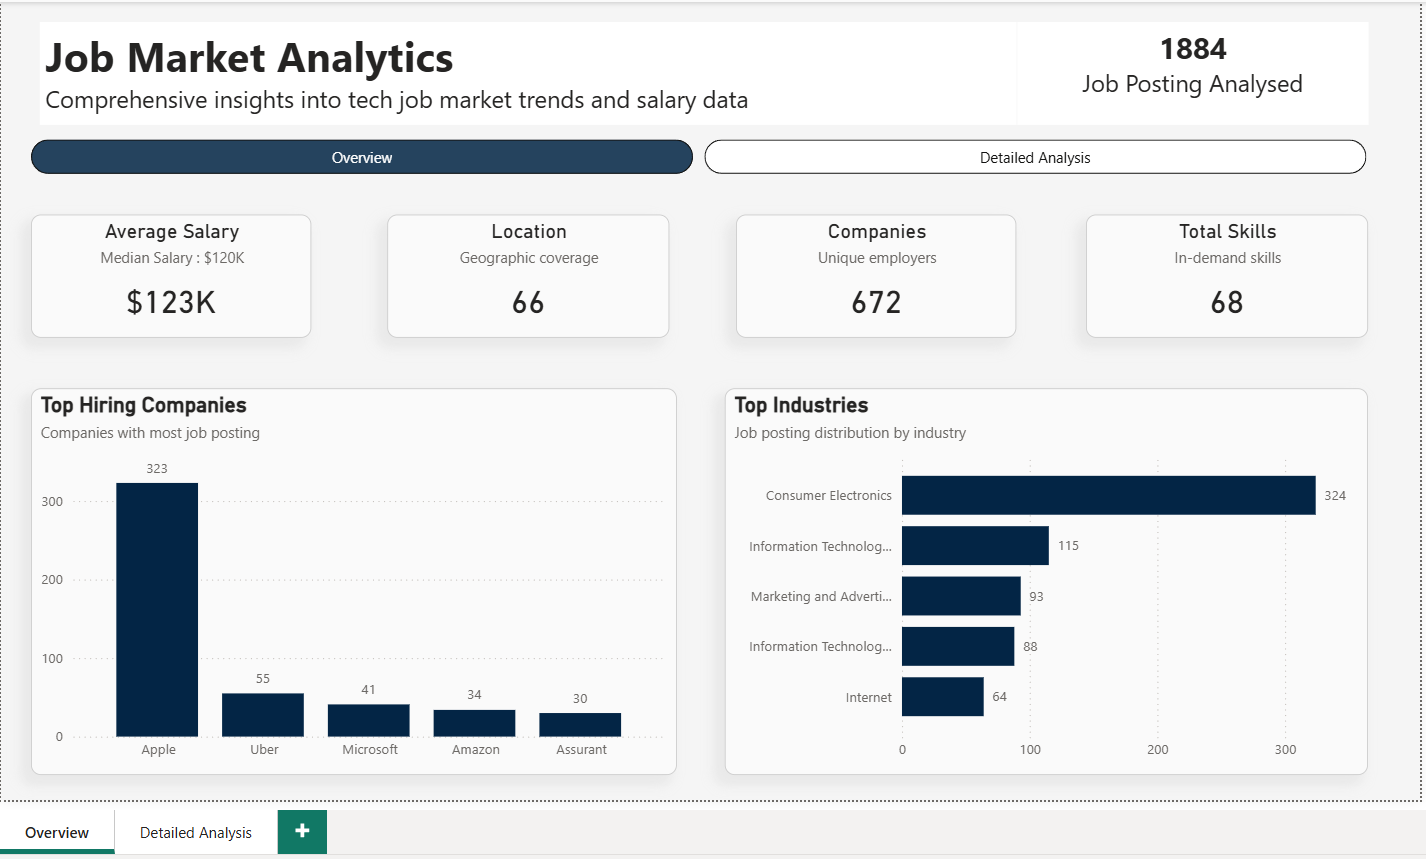

What the dashboard file says about the page in this screenshot:
{"tool":"powerbi","page":{"name":"Overview","canvas":[1280,720],"ordinal":0},"visuals":[{"type":"clusteredColumnChart","title":"Top Hiring Companies","fields":{"Category":["onGjiBOHFIGJVWcg (2).company_clean"],"Y":["Count(onGjiBOHFIGJVWcg (2).post_id)"]},"box":[26.9,348.5,582.1,348.5],"z":0},{"type":"card","title":"Average Salary","fields":{"Values":["Avg(onGjiBOHFIGJVWcg (2).avg_salary)"]},"box":[26.9,192,253.1,111.3],"z":1000},{"type":"card","title":"Total Skills","fields":{"Values":["onGjiBOHFIGJVWcg (2).Total Skills"]},"box":[978.3,192,254.3,111.3],"z":2000},{"type":"card","title":"Location","fields":{"Values":["Count(onGjiBOHFIGJVWcg (2).location_clean)"]},"box":[348.5,192,254.3,111.3],"z":3000},{"type":"textbox","box":[35.5,18.3,880.4,92.9],"z":4000},{"type":"card","title":"Companies","fields":{"Values":["Count(onGjiBOHFIGJVWcg (2).company_clean)"]},"box":[662.8,192,253.1,111.3],"z":5000},{"type":"textbox","box":[915.9,18.3,316.7,92.9],"z":6000},{"type":"pageNavigator","box":[26.9,123.5,1205.7,31.8],"z":7000},{"type":"clusteredBarChart","title":"Top Industries","fields":{"Category":["onGjiBOHFIGJVWcg (2).Industries"],"Y":["Count(onGjiBOHFIGJVWcg (2).post_id)"]},"box":[653,348.5,579.6,348.5],"z":8000}]}

Visuals, with their boxes on the page's 1280x720 design canvas (x1, y1, x2, y2). These are canvas units, not pixel positions in the 1426x859 screenshot, which may show the page scaled, cropped or inside an application window:
"Top Hiring Companies" clusteredColumnChart: [27, 348, 609, 697]
"Average Salary" card: [27, 192, 280, 303]
"Total Skills" card: [978, 192, 1233, 303]
"Location" card: [348, 192, 603, 303]
textbox: [36, 18, 916, 111]
"Companies" card: [663, 192, 916, 303]
textbox: [916, 18, 1233, 111]
pageNavigator: [27, 124, 1233, 155]
"Top Industries" clusteredBarChart: [653, 348, 1233, 697]
